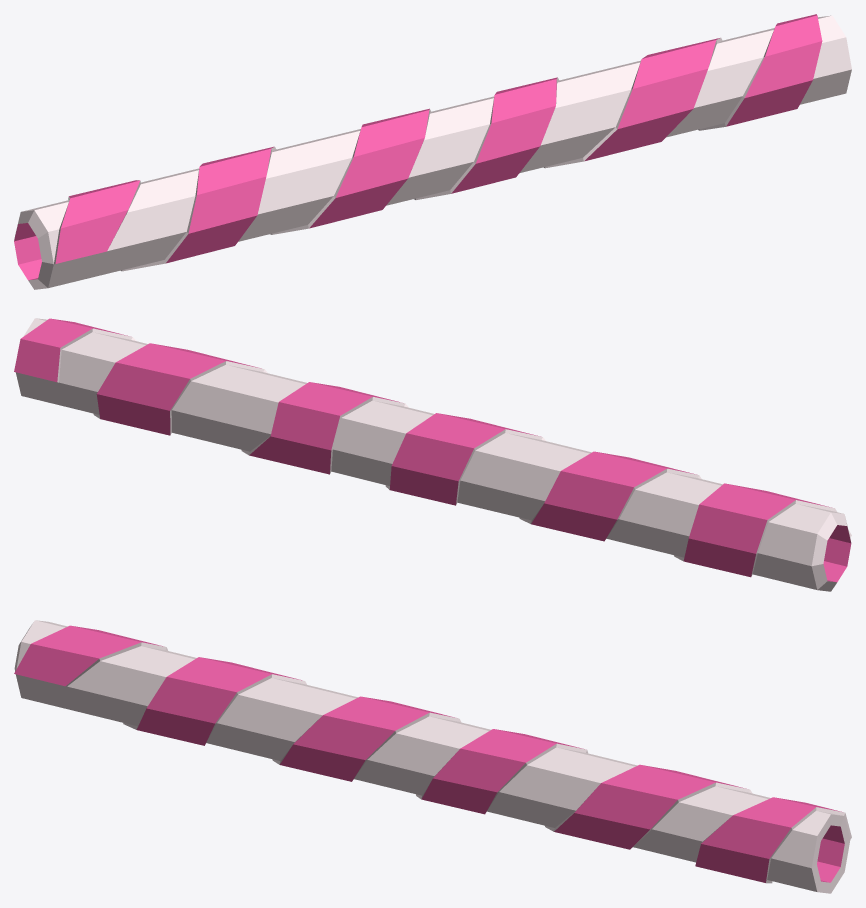
File: stick-o pink.fbx
3 views of the same model, one above another, from view 1: azimuth 30°, elevation 25°; view 2: azimuth 150°, elevation 25°; view 3: azimuth 330°, elevation 25° (orthographic).
Parts seen in each view (by area): view 1: Cylinder.001; view 2: Cylinder.001; view 3: Cylinder.001.
Boxes of the visible parts, x1=… form: Cylinder.001: x1=14, y1=14, x2=851, y2=289; Cylinder.001: x1=14, y1=318, x2=851, y2=591; Cylinder.001: x1=14, y1=620, x2=851, y2=893.
Size of the model in its own units: 3.65 by 0.3776 by 0.3326.
